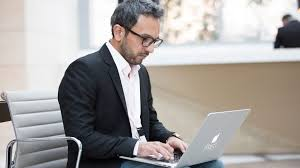middle_eastern_male: (114, 4, 170, 71)
